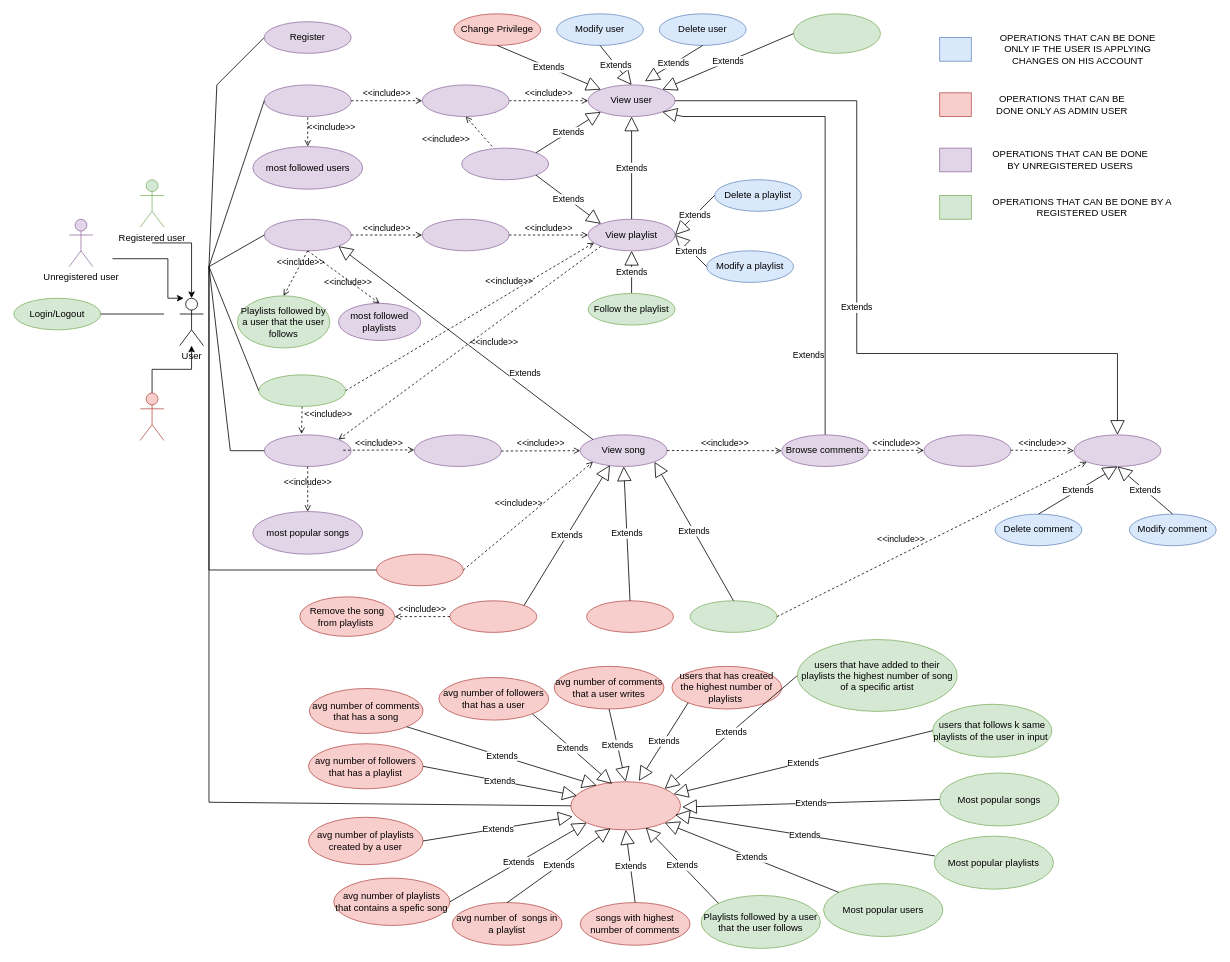
Some shapes in this 1230 by 962 pixel diagram are drawn without their labels. The shapes that lost their labels are listed below. From the top down, each one's centre as x and y in pixels, then its label:
pixel 836 33: Follow/Unfollow user
pixel 307 100: Browse User
pixel 465 100: Find User
pixel 505 163: Browse Follower
pixel 307 234: Browse Playlist
pixel 465 234: Find Playlist
pixel 302 390: Add playlist
pixel 151 416: Admin user
pixel 307 450: Browse songs
pixel 457 450: Find song
pixel 967 450: Find comment
pixel 1117 450: View comment
pixel 419 569: Add a song
pixel 493 616: Delete a song
pixel 629 616: Modify a song
pixel 733 616: Add a comment
pixel 625 805: Extract analytics and statistics
